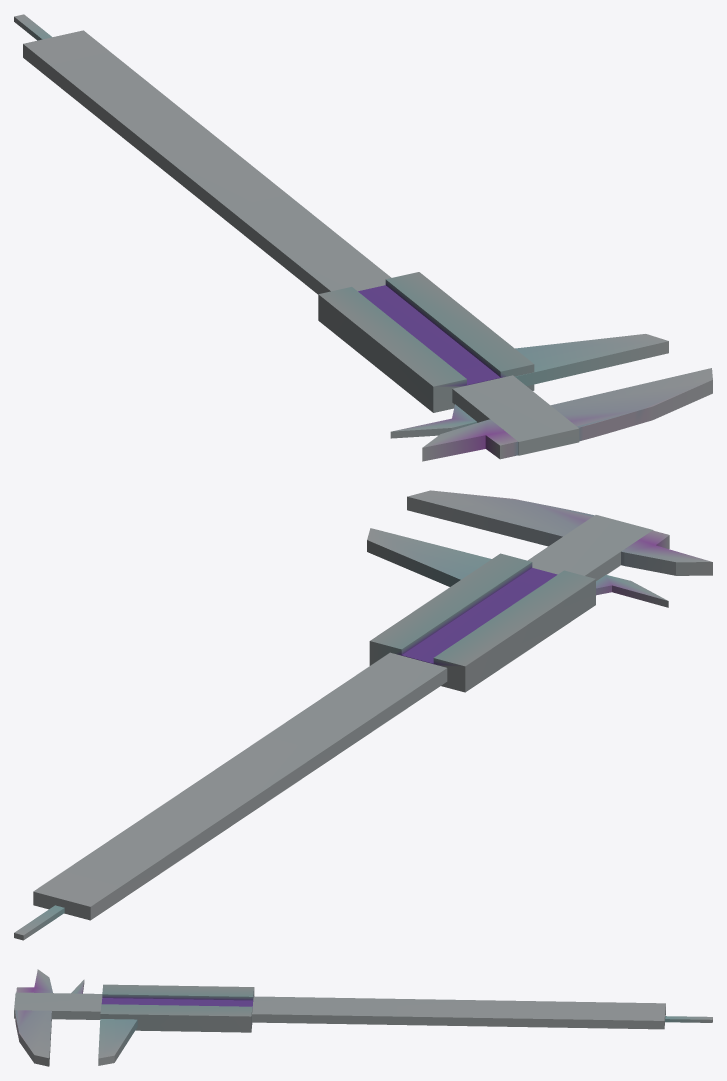
3 views of the same model, one above another, from view 1: azimuth 30°, elevation 25°; view 2: azimuth 150°, elevation 25°; view 3: azimuth 270°, elevation 25° (orthographic). The views are drawn at different scales.
Visible parts, largest first — view 1: beam, sleeve, fixed_jaws, moving_broad_jaw, moving_pointed_jaw; view 2: beam, sleeve, fixed_jaws, moving_broad_jaw, moving_pointed_jaw; view 3: beam, sleeve, fixed_jaws, moving_broad_jaw, depth_rod.
Part boxes in pixels (x1,y1,x2,y2): beam: [23, 30, 579, 455]; sleeve: [318, 272, 534, 412]; fixed_jaws: [422, 368, 712, 461]; moving_broad_jaw: [515, 334, 668, 385]; moving_pointed_jaw: [390, 404, 477, 438]; beam: [33, 515, 653, 920]; sleeve: [369, 553, 595, 692]; fixed_jaws: [407, 490, 712, 575]; moving_broad_jaw: [367, 528, 491, 586]; moving_pointed_jaw: [596, 575, 668, 607]; beam: [14, 992, 665, 1029]; sleeve: [100, 984, 254, 1032]; fixed_jaws: [15, 969, 52, 1066]; moving_broad_jaw: [98, 1019, 137, 1065]; depth_rod: [665, 1016, 712, 1022].
Bounding box in the file's own units: 0.0909 × 0.00766 × 0.3006.
